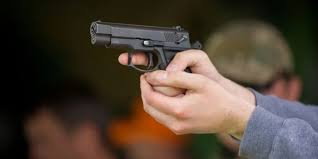Arma Real: (80, 15, 203, 77)
